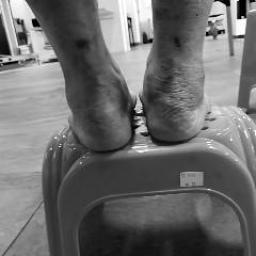Back View -Both Feet-: (38, 16, 232, 157)
